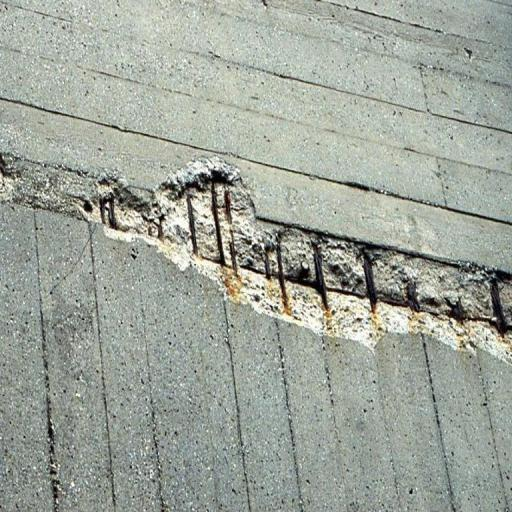spalling: (100, 156, 512, 354)
